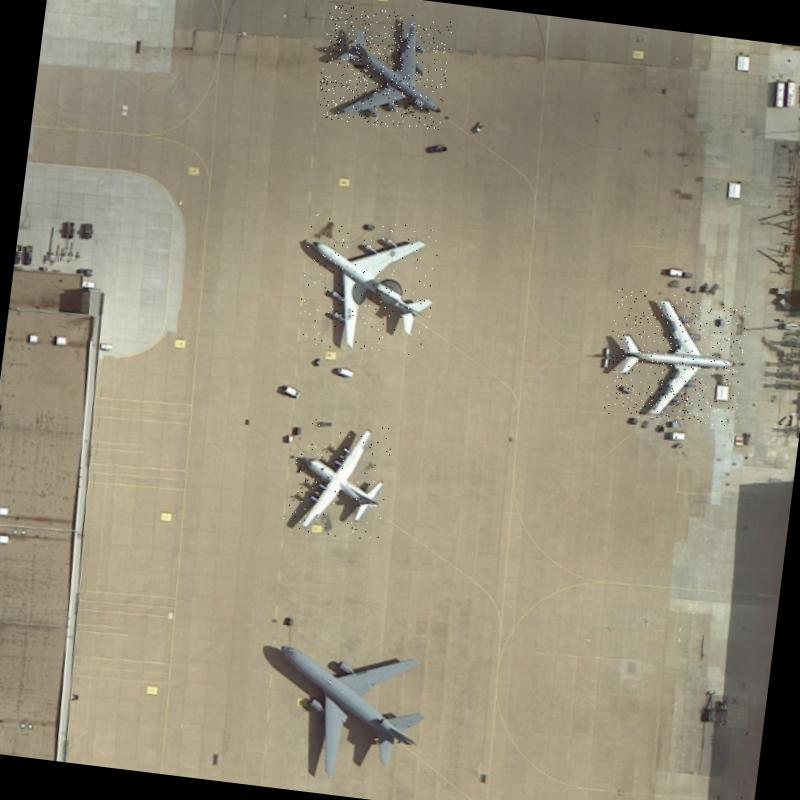A11: (602, 288, 750, 429)
A14: (315, 4, 453, 133)
A18: (258, 624, 434, 788)
A2: (282, 415, 394, 542)
A7: (295, 212, 440, 361)
